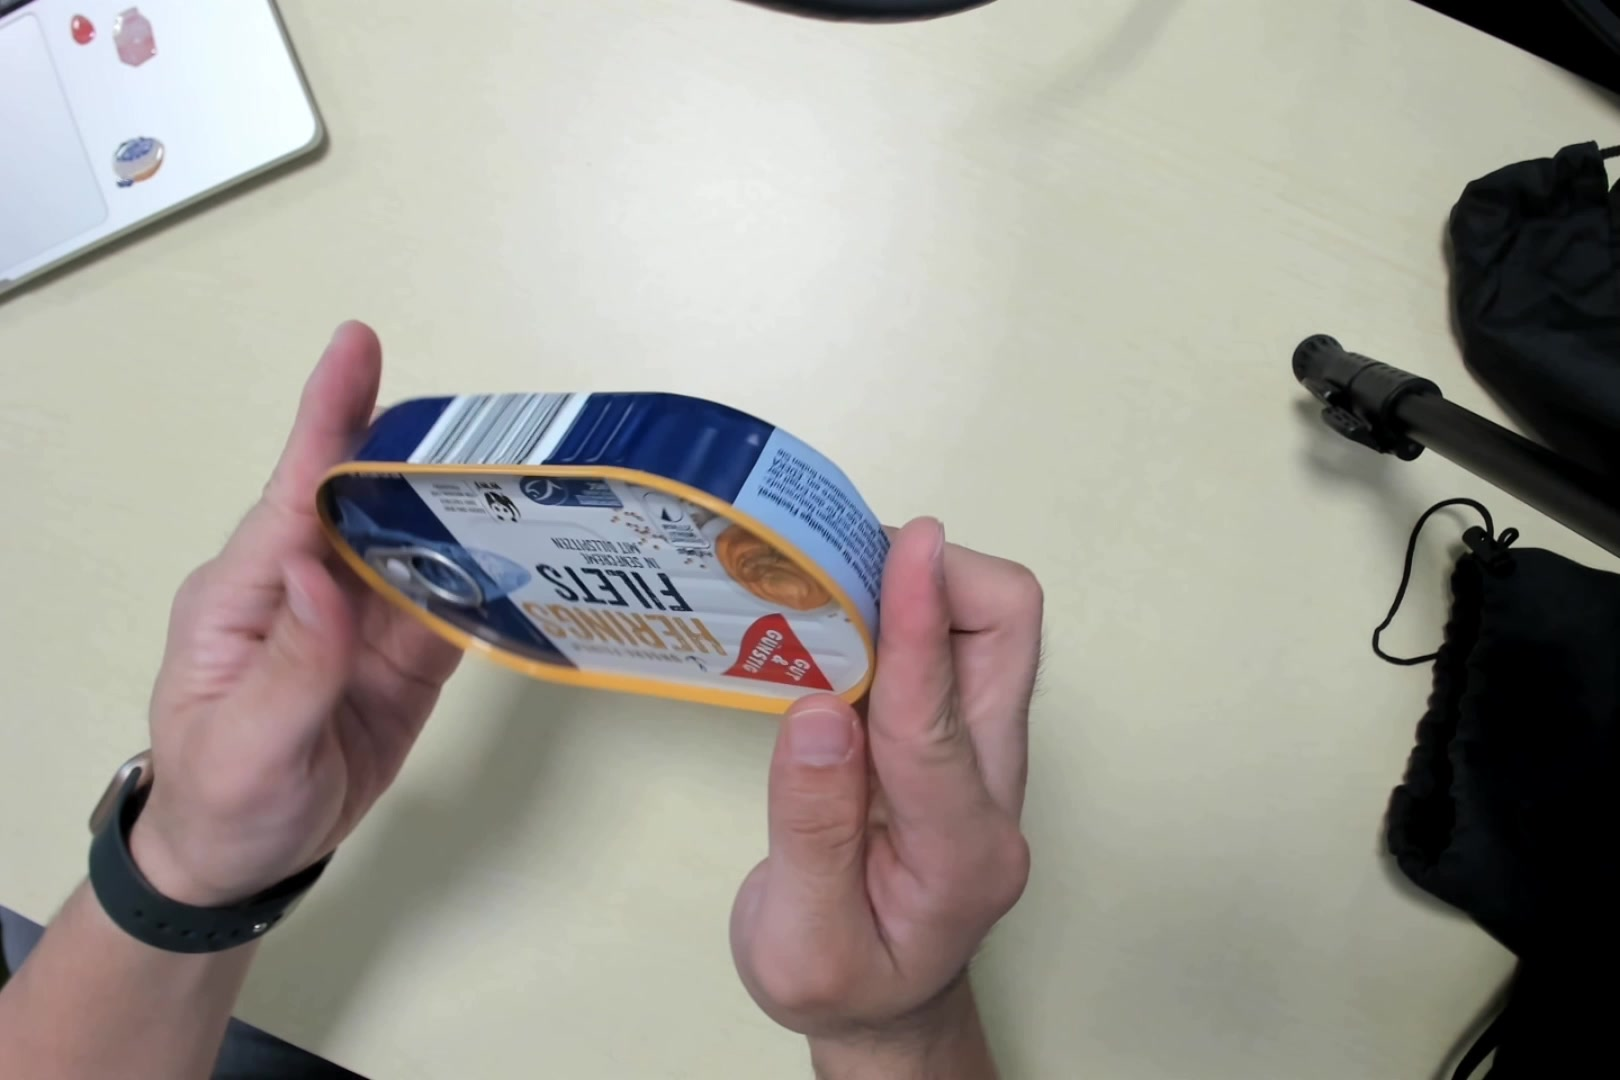OtherCannedSeafood_100-199g_Halal_NonHealthy: (328, 393, 885, 710)
